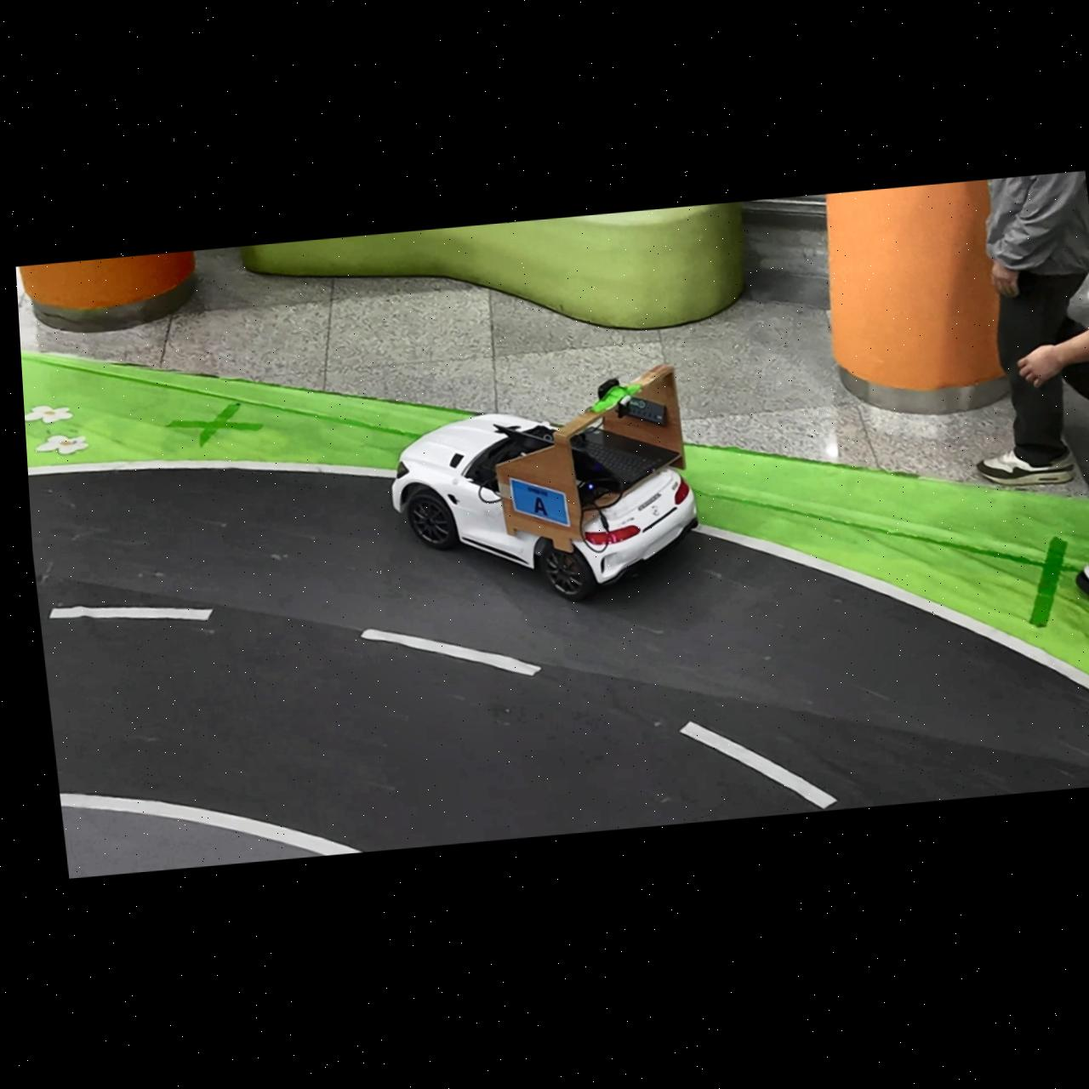broken_line: (679, 721, 837, 809), (360, 628, 541, 676), (49, 606, 213, 620)
